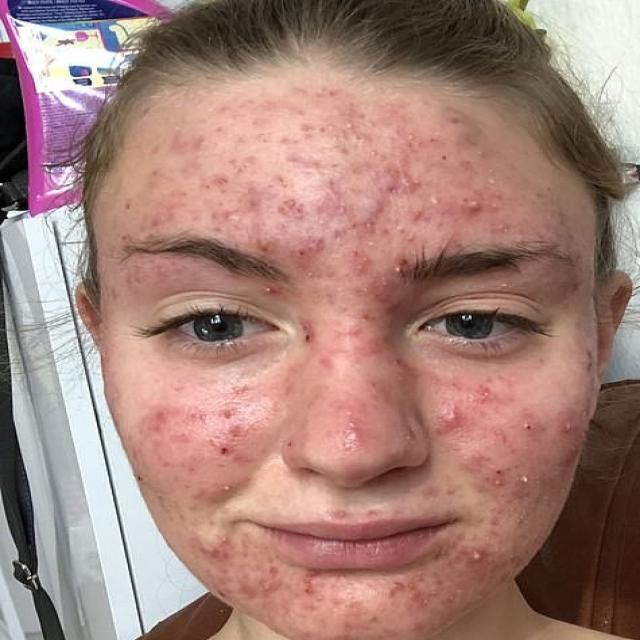Acne: (135, 100, 606, 246), (273, 267, 442, 517), (205, 536, 506, 636), (454, 369, 578, 573), (124, 375, 275, 527)
